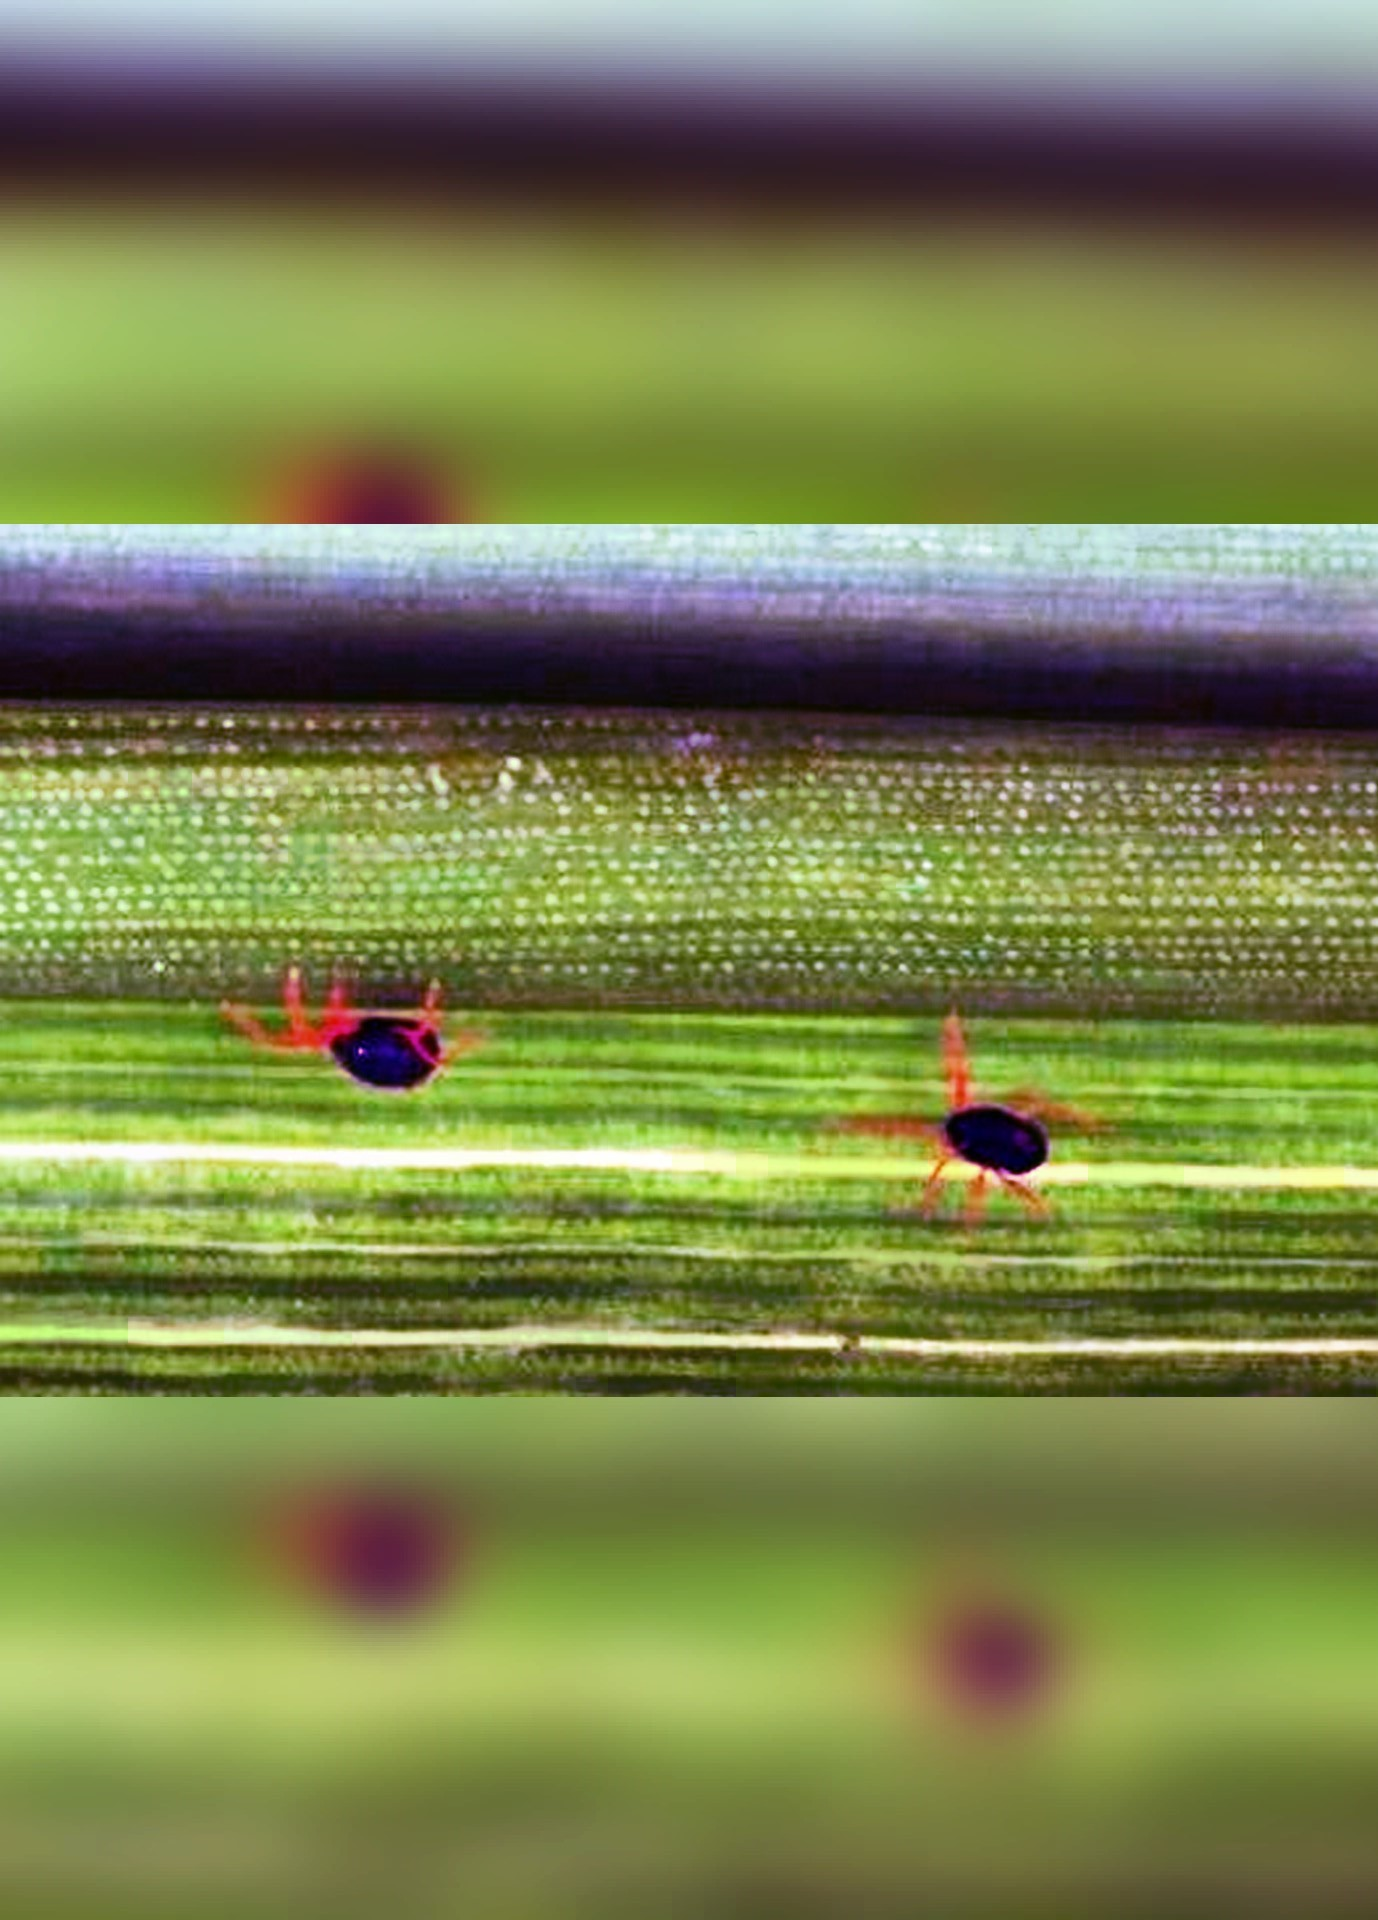Wheat Red Spider: (200, 950, 523, 1117)
